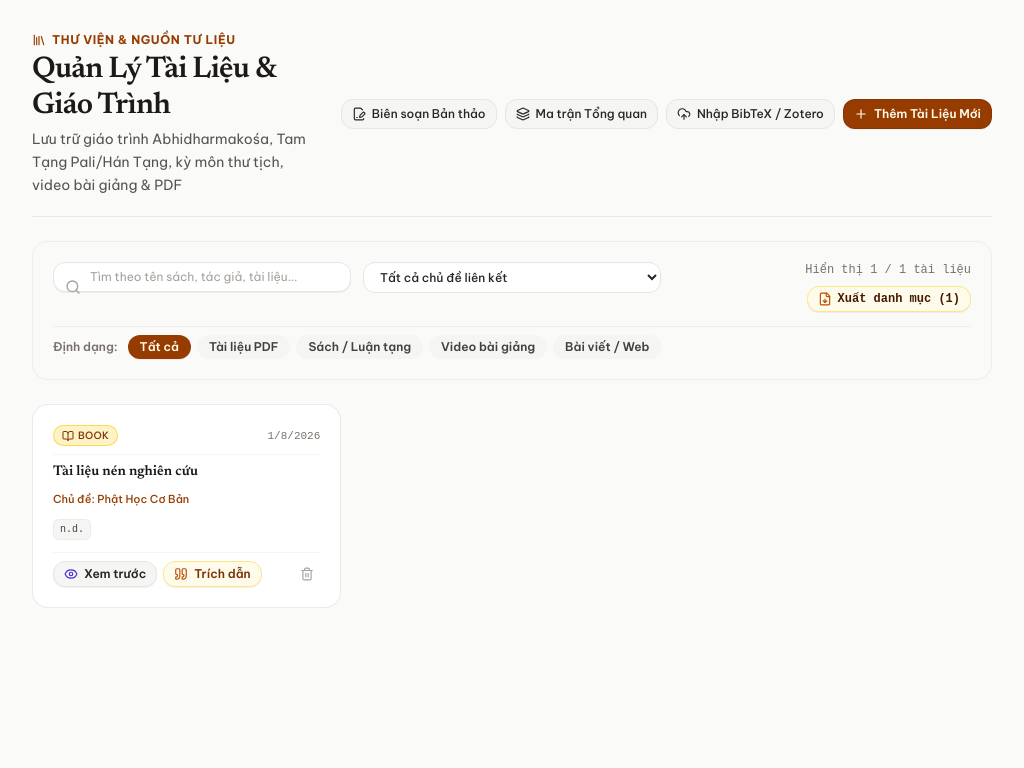
Test: Integration: ResourcesManager Preview to Reader Flow › Scenario D: Resource with unsupported binary extension (e.g. .zip) falls back to ResourceViewerModal instead of reader crash
The width and height of the screenshot is (1024, 768).
Click the button "Xem trước": [105, 574] box x1=53 y1=561 x2=157 y2=587
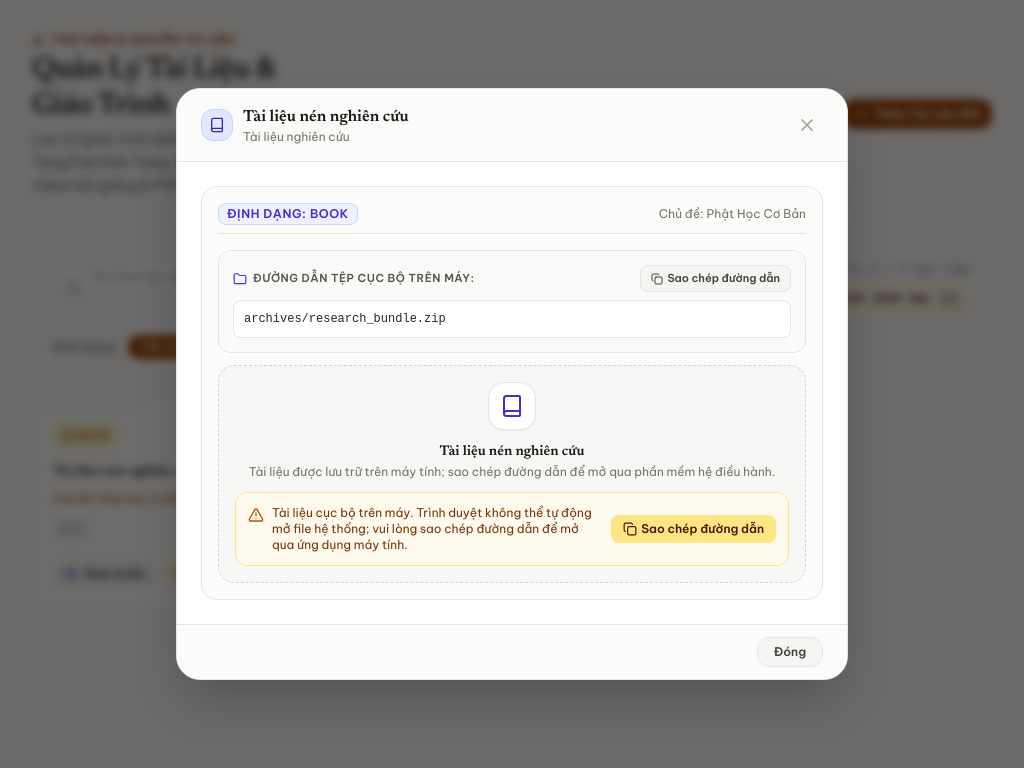
Expected: the dialog named "Chi tiết tài liệu: Tài liệu nén nghiên cứu" is shown
